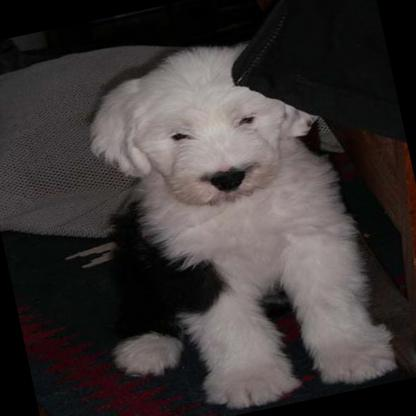Old_English_sheepdog: (41, 15, 400, 416)
